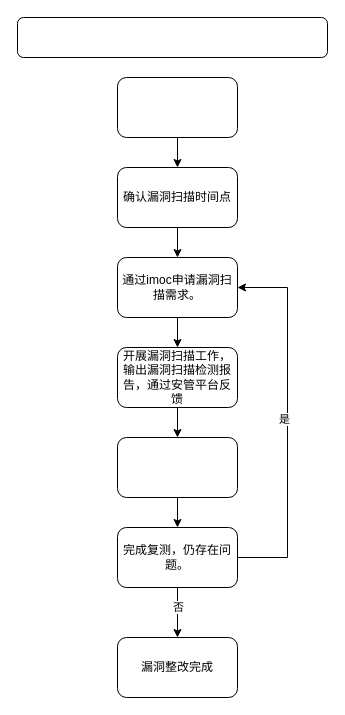
This 345x715 diagram has some shape labels left out. The centre of each missing label's shape, as x and y in pixels:
"与等保测评系统负责人确认IP地址" belongs at (x=177, y=107).
"完成整改后在安管平台反馈" belongs at (x=177, y=467).
"等保测评漏洞扫描流程" belongs at (x=172, y=37).
